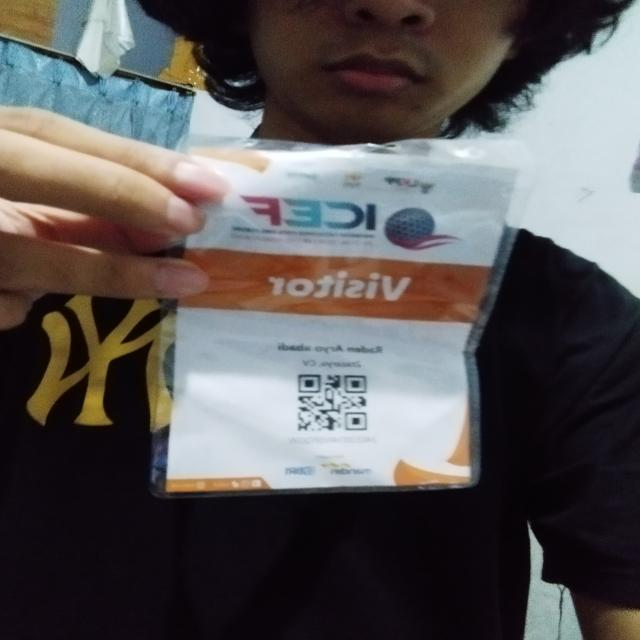ID_card: (150, 138, 529, 498)
